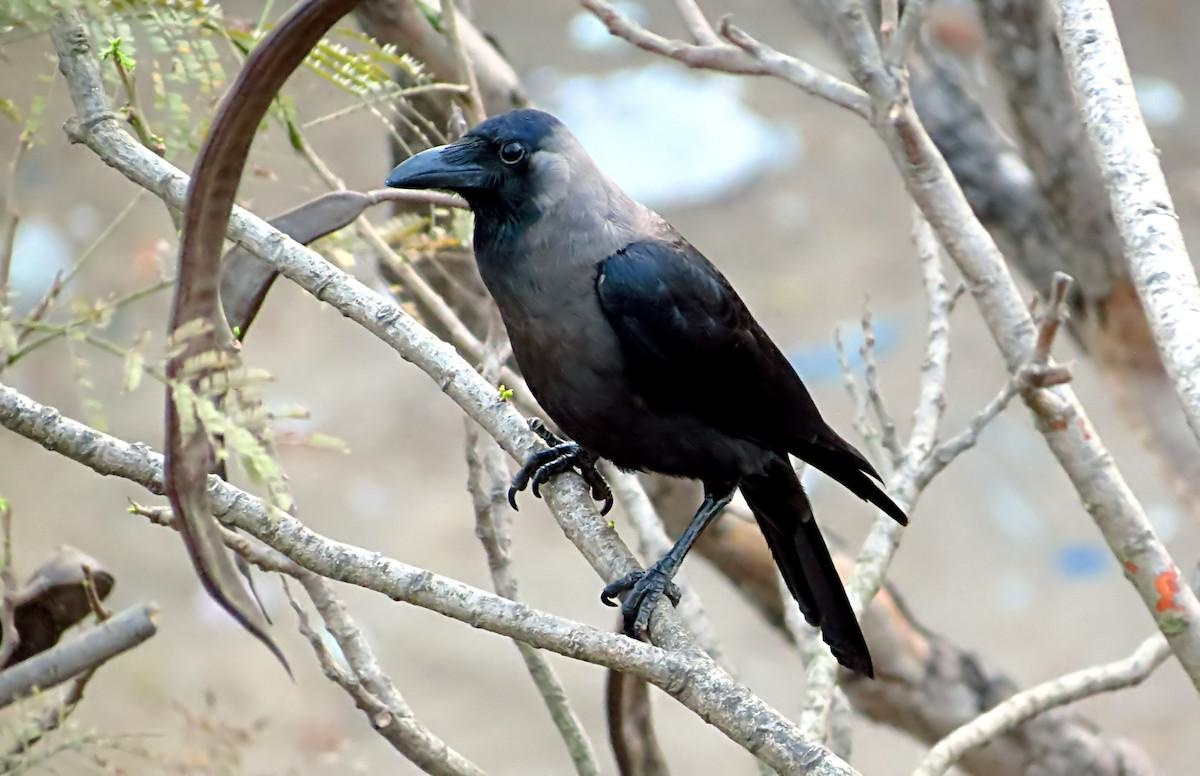crow: (385, 90, 930, 725)
